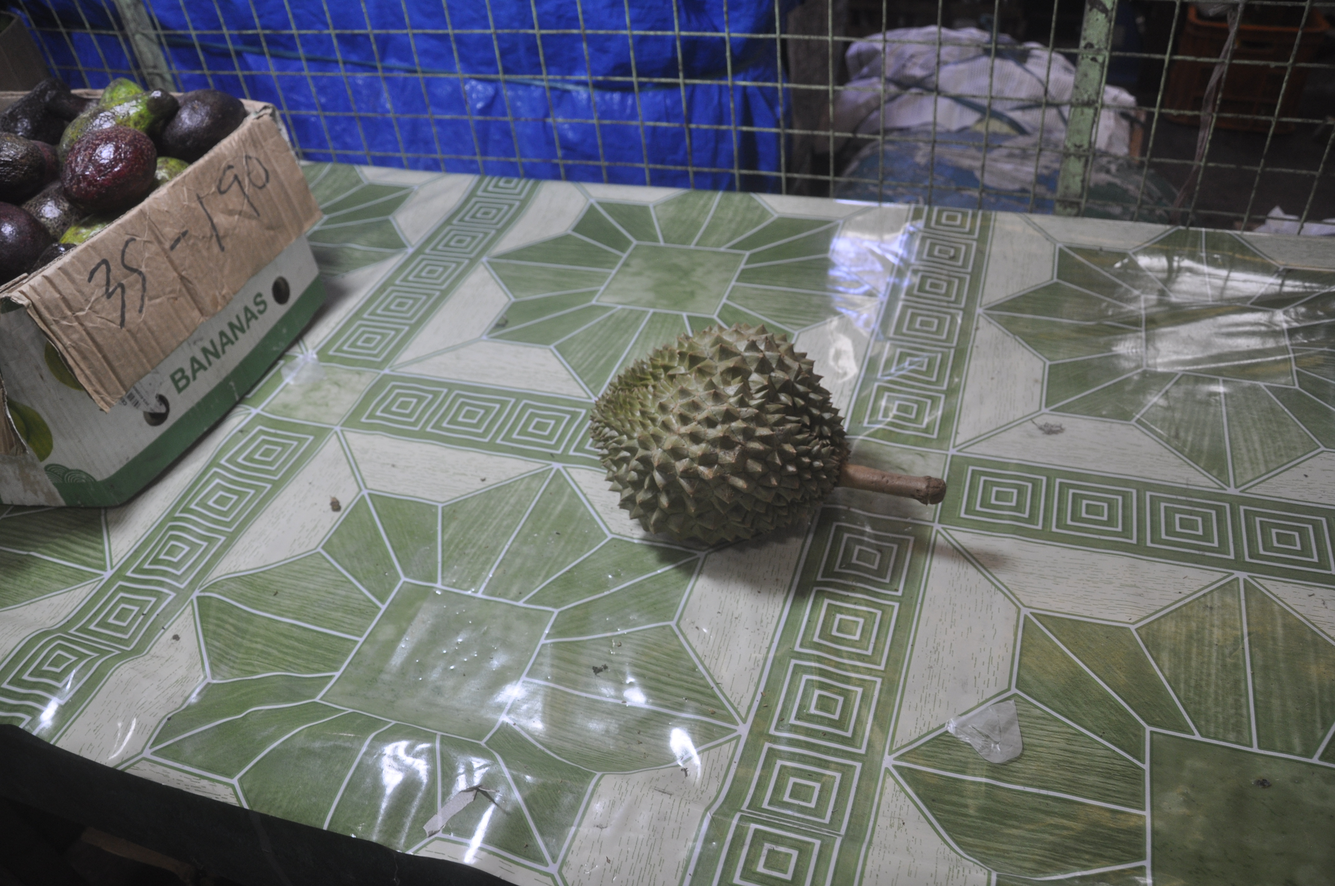mature: (590, 324, 946, 544)
